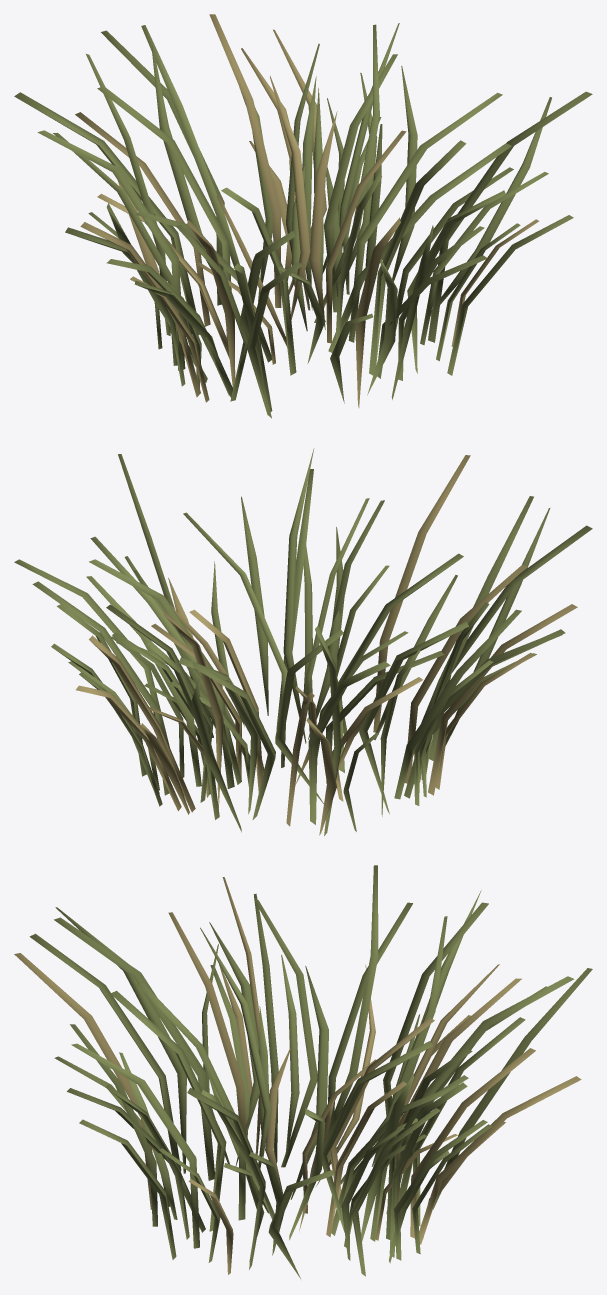
Rendered from Herbes_Dense_LOD0.fbx.
3 views of the same model, one above another, from view 1: azimuth 30°, elevation 25°; view 2: azimuth 150°, elevation 25°; view 3: azimuth 270°, elevation 25° (orthographic). The views are drawn at different scales.
Parts seen in each view (by area): view 1: Herbes_Dense; view 2: Herbes_Dense; view 3: Herbes_Dense.
Part boxes in pixels (bbox=[...]): Herbes_Dense: bbox=[14, 14, 592, 418]; Herbes_Dense: bbox=[14, 448, 592, 835]; Herbes_Dense: bbox=[14, 865, 592, 1278].
Bounding box in the file's own units: 88.27 × 41.72 × 84.1.
